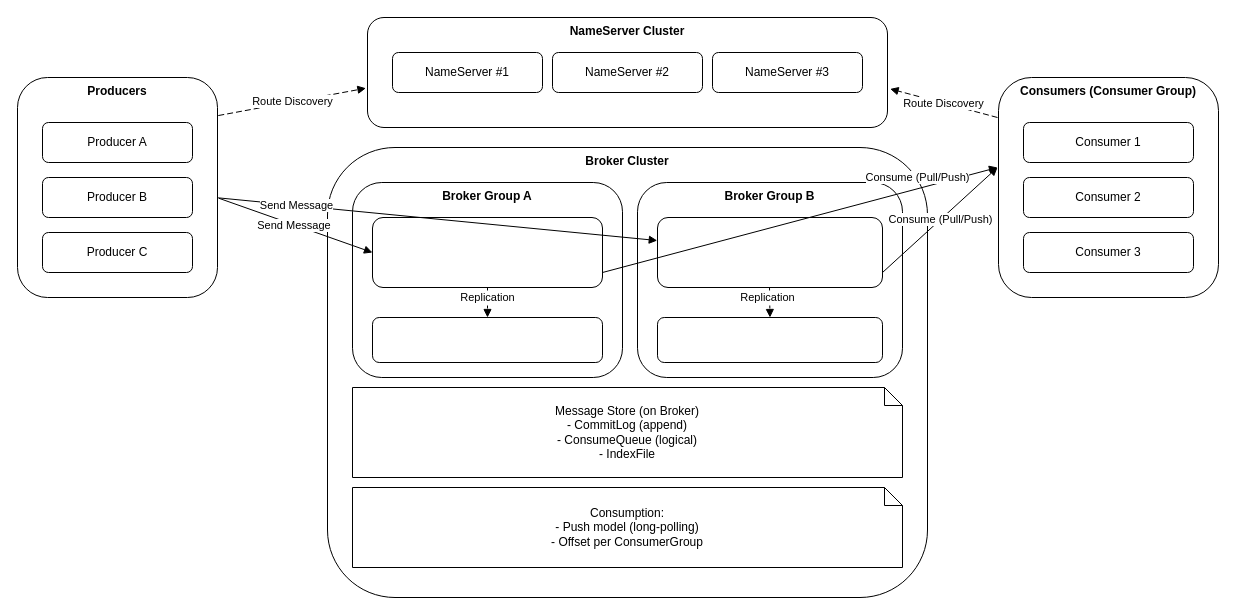
This 1236x615 diagram has some shape labels left out. The shapes that lost their labels are listed below. From the top down, each one's centre as x and y in pixels, then its label:
point 487,252: Broker A - Master Topic: T1 Queues: Q0..Q3
point 769,252: Broker B - Master Topic: T1/T2 Queues: Q0..Q3
point 487,339: Broker A - Slave (replica)
point 769,339: Broker B - Slave (replica)
